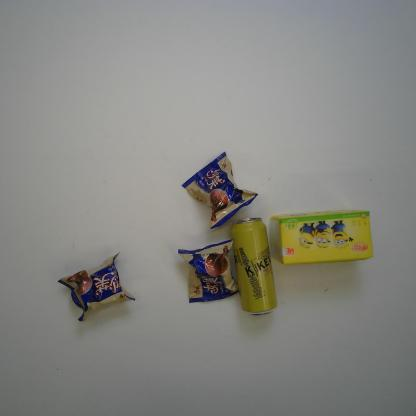Alcohol: (231, 216, 278, 317)
Dessert: (181, 151, 260, 230), (57, 251, 136, 322), (177, 239, 239, 304)
Tissue: (269, 208, 374, 266)
